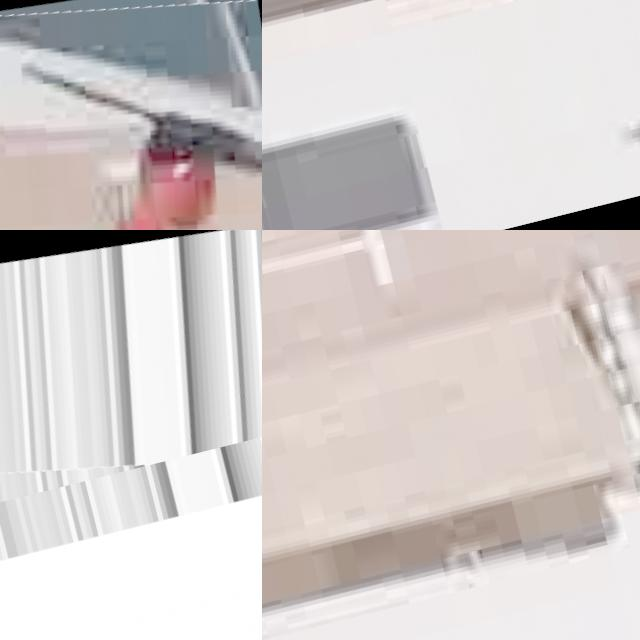drone: (0, 230, 262, 512), (0, 0, 262, 230)
